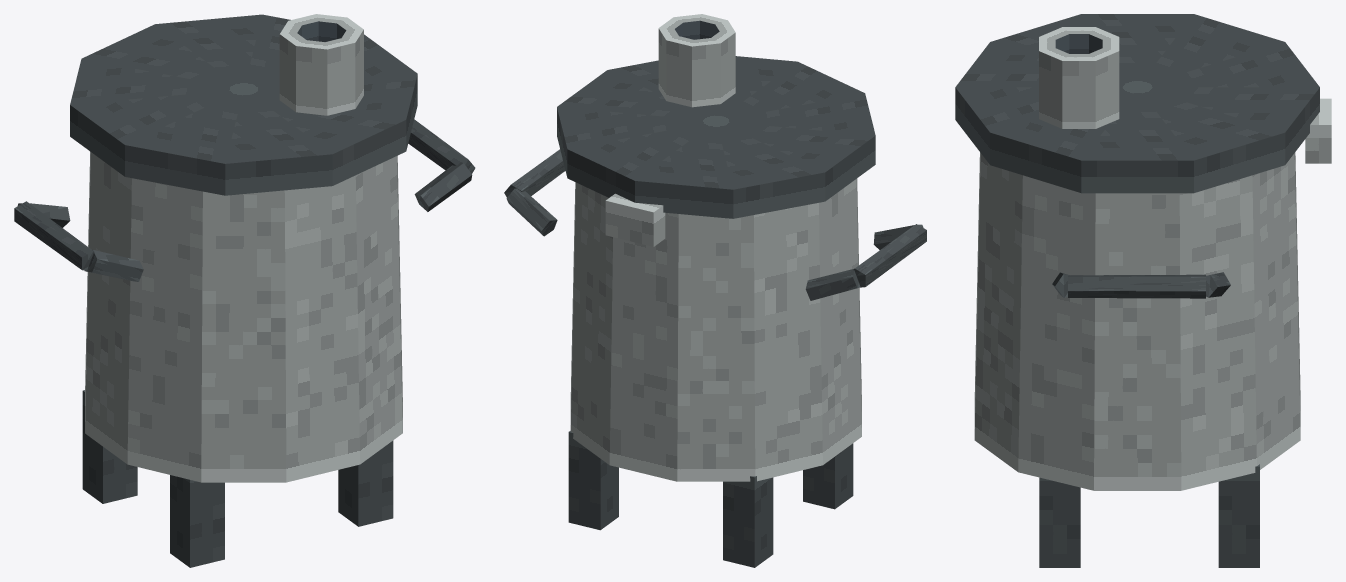
The model's file is f_kiln_portable_empty.glb.
3 views of the same model, side by side, from view 1: azimuth 30°, elevation 25°; view 2: azimuth 150°, elevation 25°; view 3: azimuth 270°, elevation 25° (orthographic). The views are drawn at different scales.
Parts seen in each view (by area): view 1: block_sealed-charcoal-chamber, block_kiln-ring-lid, block_leg--0.132875-0.11937500000000001, block_leg-0.132875-0.11937500000000001, block_foldaway-kiln-carry-handle-2 (×2), block_leg--0.132875--0.11937500000000001, block_foldaway-kiln-carry-handle-3 (×2), block_gas-vent-neck-outer-2, block_gas-vent-neck-outer-1, block_gas-vent-neck-outer-3, block_gas-vent-neck-outer-0; view 2: block_sealed-charcoal-chamber, block_kiln-ring-lid, block_leg--0.132875--0.11937500000000001, block_leg-0.132875--0.11937500000000001, block_foldaway-kiln-carry-handle-2 (×2), block_kiln-lid-latch, block_leg--0.132875-0.11937500000000001, block_foldaway-kiln-carry-handle-1 (×2), block_gas-vent-neck-outer-4, block_gas-vent-neck-outer-5, block_gas-vent-neck-outer-3, block_gas-vent-neck-outer-6; view 3: block_sealed-charcoal-chamber, block_kiln-ring-lid, block_leg-0.132875--0.11937500000000001, block_leg-0.132875-0.11937500000000001, block_foldaway-kiln-carry-handle-2, block_gas-vent-neck-outer-7, block_gas-vent-neck-outer-6, block_gas-vent-neck-outer-0, block_kiln-lid-latch, block_foldaway-kiln-carry-handle-1.
Boxes of the visible parts, box(x1,y1,x2,y2) form: block_sealed-charcoal-chamber: box(85, 151, 402, 482); block_kiln-ring-lid: box(70, 14, 417, 195); block_leg--0.132875-0.11937500000000001: box(170, 475, 224, 567); block_leg-0.132875-0.11937500000000001: box(338, 440, 393, 526); block_foldaway-kiln-carry-handle-2 (×2): box(14, 119, 475, 270); block_leg--0.132875--0.11937500000000001: box(82, 390, 137, 503); block_foldaway-kiln-carry-handle-3 (×2): box(85, 162, 472, 281); block_gas-vent-neck-outer-2: box(296, 46, 327, 115); block_gas-vent-neck-outer-1: box(327, 43, 355, 115); block_gas-vent-neck-outer-3: box(279, 34, 295, 111); block_gas-vent-neck-outer-0: box(355, 29, 363, 108); block_sealed-charcoal-chamber: box(570, 178, 861, 481); block_kiln-ring-lid: box(557, 56, 875, 218); block_leg--0.132875--0.11937500000000001: box(723, 476, 773, 567); block_leg-0.132875--0.11937500000000001: box(568, 431, 618, 530); block_foldaway-kiln-carry-handle-2 (×2): box(504, 149, 926, 287); block_kiln-lid-latch: box(605, 193, 665, 246); block_leg--0.132875-0.11937500000000001: box(803, 443, 853, 509); block_foldaway-kiln-carry-handle-1 (×2): box(506, 188, 860, 300); block_gas-vent-neck-outer-4: box(692, 43, 720, 107); block_gas-vent-neck-outer-5: box(666, 40, 691, 107); block_gas-vent-neck-outer-3: box(721, 33, 735, 103); block_gas-vent-neck-outer-6: box(658, 29, 666, 100); block_sealed-charcoal-chamber: box(974, 152, 1300, 490); block_kiln-ring-lid: box(955, 14, 1319, 193); block_leg-0.132875--0.11937500000000001: box(1218, 464, 1259, 567); block_leg-0.132875-0.11937500000000001: box(1039, 477, 1080, 567); block_foldaway-kiln-carry-handle-2: box(1068, 274, 1205, 298); block_gas-vent-neck-outer-7: box(1062, 61, 1095, 128); block_gas-vent-neck-outer-6: box(1095, 51, 1119, 128); block_gas-vent-neck-outer-0: box(1039, 51, 1062, 128); block_kiln-lid-latch: box(1305, 98, 1331, 163); block_foldaway-kiln-carry-handle-1: box(1206, 272, 1230, 297).
Bounding box in the file's own units: 0.6228 × 0.732 × 0.5015.
Materials: 1 (1 with a texture image).
